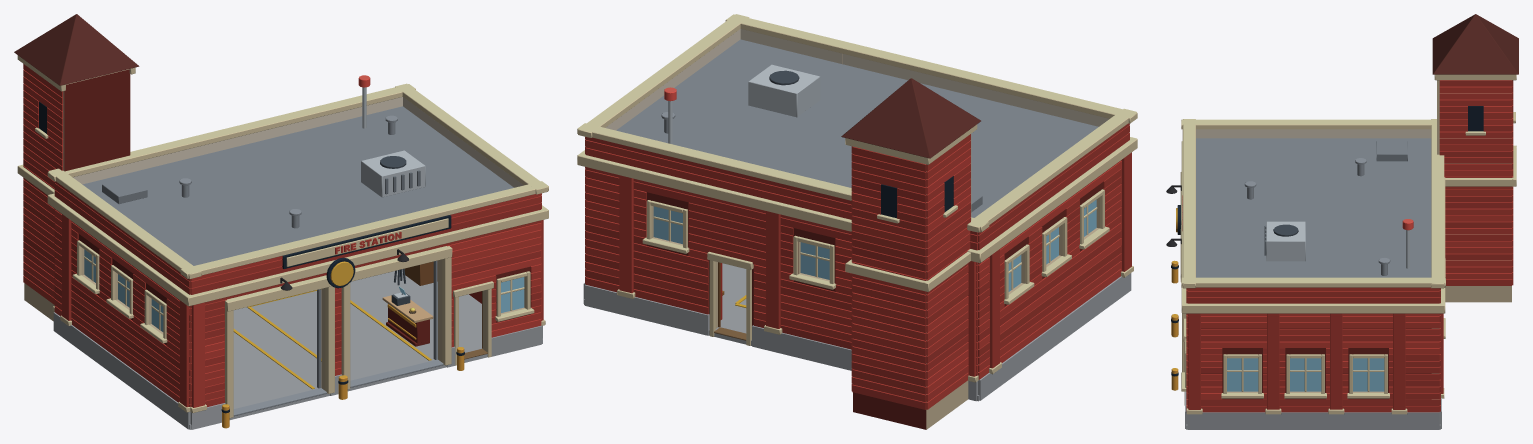
The model's file is FireStation.glb.
3 views of the same model, side by side, from view 1: azimuth 30°, elevation 25°; view 2: azimuth 150°, elevation 25°; view 3: azimuth 270°, elevation 25° (orthographic). The views are drawn at different scales.
Parts seen in each view (by area): view 1: FireStation_Walls, FireStation_Detail, FireStation_Roof, FireStation_Interior, FireStation_Glass; view 2: FireStation_Walls, FireStation_Detail, FireStation_Roof, FireStation_Glass; view 3: FireStation_Walls, FireStation_Roof, FireStation_Detail, FireStation_Glass.
Part boxes in pixels (x1=…): FireStation_Walls: x1=23, y1=64, x2=542, y2=429; FireStation_Detail: x1=14, y1=14, x2=548, y2=428; FireStation_Roof: x1=82, y1=75, x2=513, y2=265; FireStation_Interior: x1=382, y1=261, x2=437, y2=346; FireStation_Glass: x1=84, y1=249, x2=524, y2=331; FireStation_Walls: x1=583, y1=29, x2=1131, y2=429; FireStation_Detail: x1=577, y1=14, x2=1137, y2=382; FireStation_Roof: x1=616, y1=39, x2=1098, y2=217; FireStation_Glass: x1=653, y1=199, x2=1096, y2=291; FireStation_Walls: x1=1185, y1=80, x2=1513, y2=429; FireStation_Roof: x1=1196, y1=138, x2=1431, y2=277; FireStation_Detail: x1=1166, y1=14, x2=1518, y2=414; FireStation_Glass: x1=1227, y1=358, x2=1384, y2=391.
Size of the model in its own units: 49.61 by 38.29 by 44.78.
